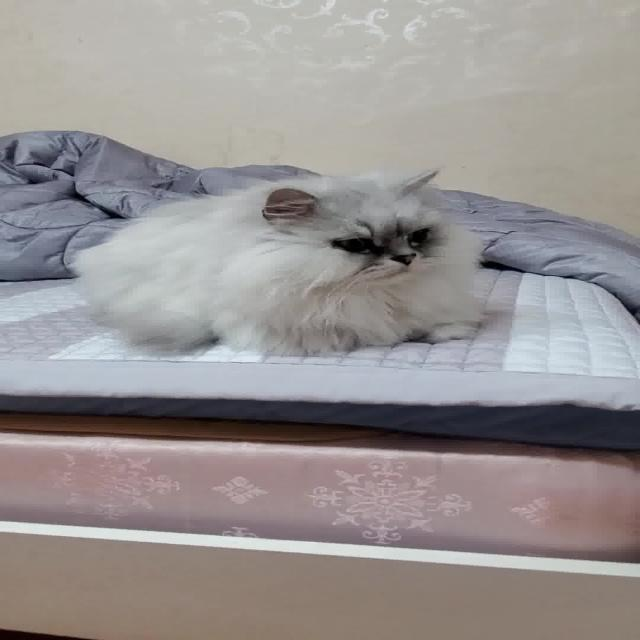cat: (63, 157, 504, 361)
